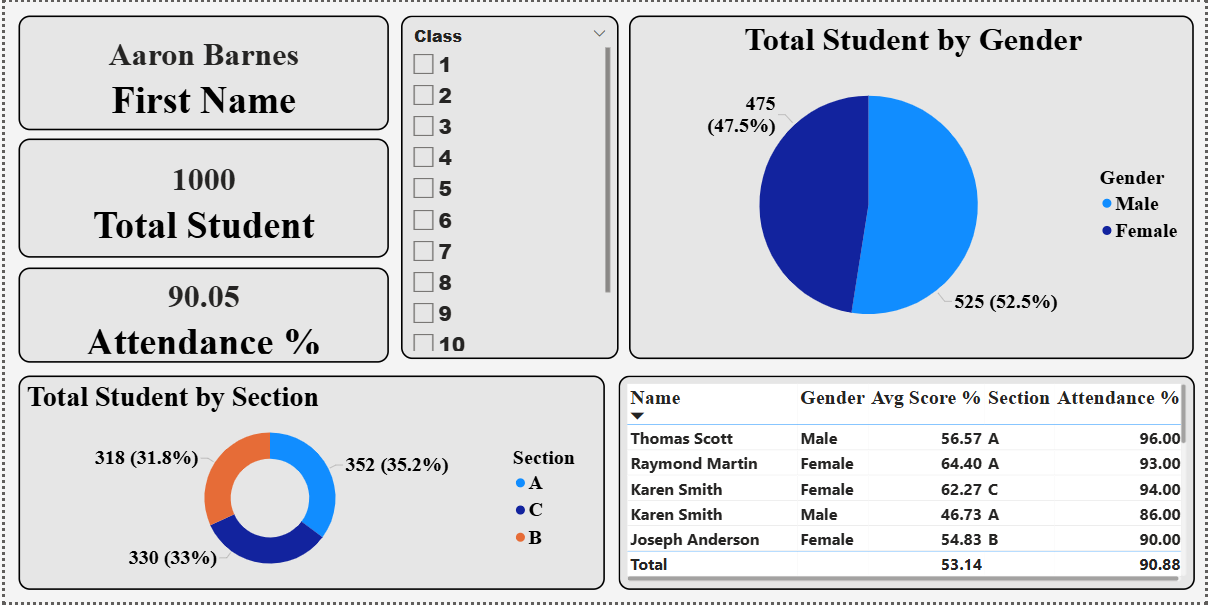

What the dashboard file says about the page in this screenshot:
{"tool":"powerbi","page":{"name":"Student","canvas":[2000,1000],"ordinal":2},"visuals":[{"type":"donutChart","fields":{"Category":["Students - Students csv.Section"],"Y":["Measure Table.Total Student"]},"box":[23.7,622.2,977.1,357.3],"z":0},{"type":"tableEx","fields":{"Values":["Students - Students csv.Name","Students - Students csv.Gender","Measure Table.avarage score","Students - Students csv.Section","Measure Table.Attendance %"]},"box":[1022.1,622.2,960.6,357.3],"z":1000},{"type":"card","fields":{"Values":["Min(Students - Students csv.Name)"]},"box":[23.7,21.3,617.5,191.6],"z":2000},{"type":"card","fields":{"Values":["Measure Table.Attendance %"]},"box":[23.7,442.4,617.5,158.5],"z":3000},{"type":"pieChart","fields":{"Category":["Students - Students csv.Gender"],"Y":["Measure Table.Total Student"]},"box":[1041,21.3,941.6,572.6],"z":4000},{"type":"slicer","fields":{"Values":["Students - Students csv.Class"]},"box":[660,22.5,362.5,572.5],"z":5000},{"type":"card","fields":{"Values":["Measure Table.Total Student"]},"box":[23.7,227.1,617.5,198.7],"z":6000}]}

Visuals, with their boxes in screenshot pixels (x1, y1, x2, y2), scaled from the page's 2000x1000 canvas onto the 1208x605 screenshot:
donutChart - Students - Students csv.Section x Measure Table.Total Student: BBox(14, 376, 604, 593)
tableEx - Students - Students csv.Name x Students - Students csv.Gender: BBox(617, 376, 1198, 593)
card - Min(Students - Students csv.Name): BBox(14, 13, 387, 129)
card - Measure Table.Attendance %: BBox(14, 268, 387, 364)
pieChart - Students - Students csv.Gender x Measure Table.Total Student: BBox(629, 13, 1197, 359)
slicer - Students - Students csv.Class: BBox(399, 14, 618, 360)
card - Measure Table.Total Student: BBox(14, 137, 387, 258)
